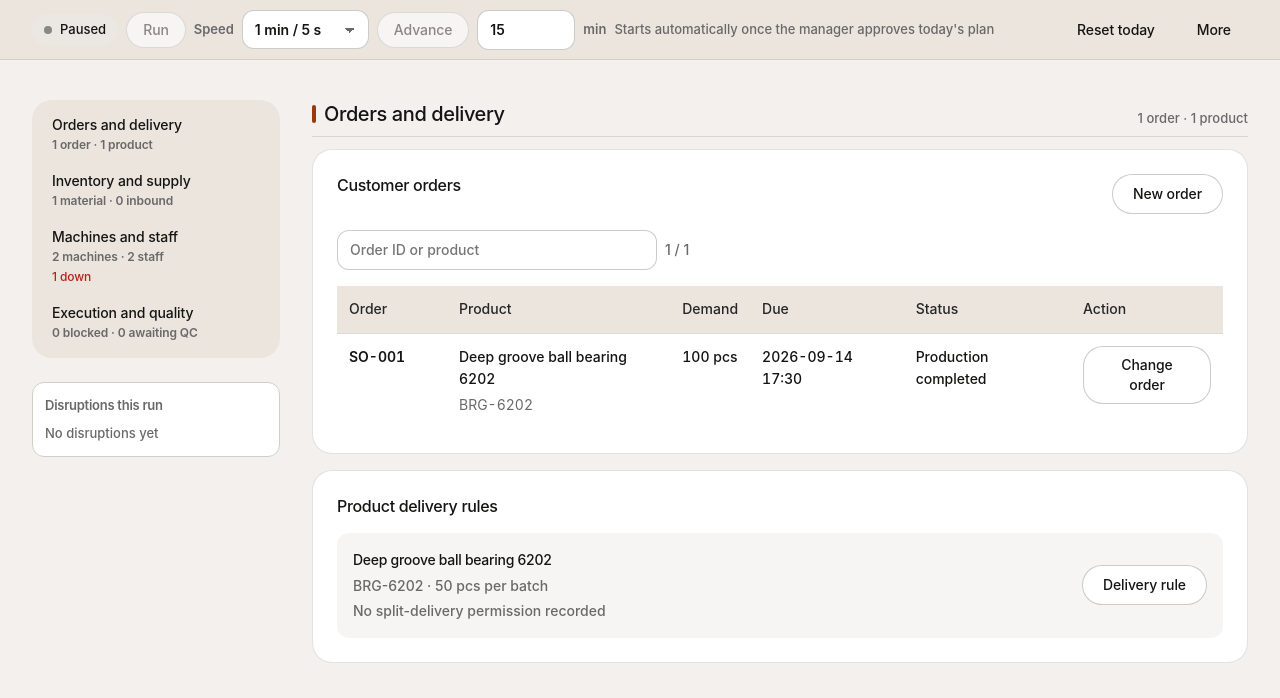
Test case: a COMPLETED order can be cancelled and still says WIP continues and qualified surplus goes to stock
The width and height of the screenshot is (1280, 698).
Click the button with aria-label "Change order SO-001" at (1147, 374), box top-left (1083, 346), bottom-right (1211, 404)
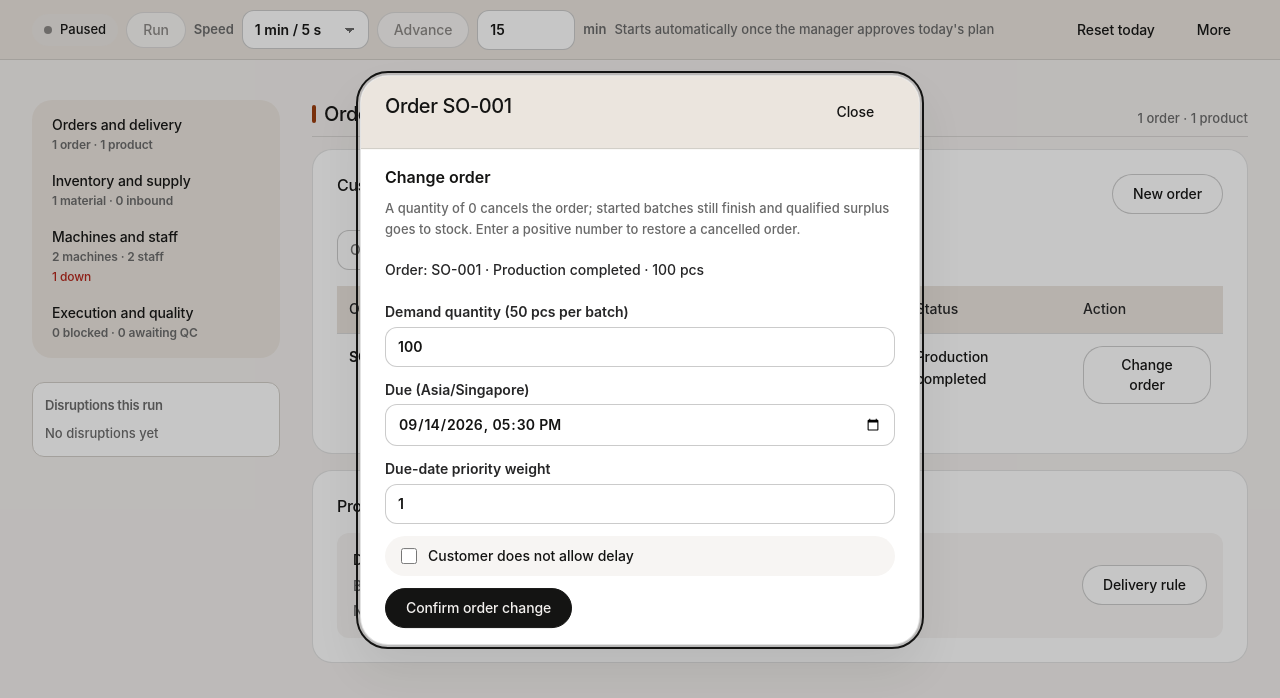
Now the text "started batches still finish" is shown, box top-left (385, 200), bottom-right (889, 237)
Now the text "Order: SO-001 · Production completed · 100 pcs" is shown, box top-left (385, 262), bottom-right (704, 278)
Replace the text in the number field labelled "Demand quantity (50 pcs per batch)" with "0" at (640, 347), box top-left (385, 327), bottom-right (895, 367)
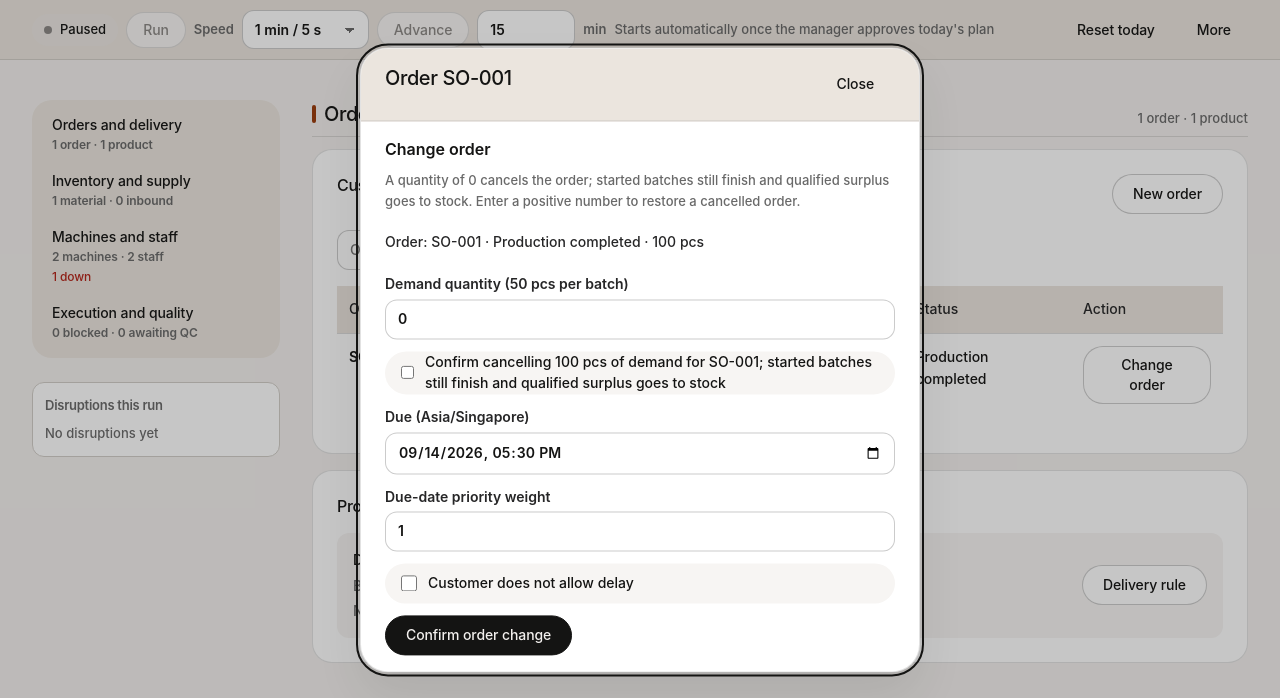
Click the 1st checkbox at (408, 373), box top-left (401, 365), bottom-right (414, 381)
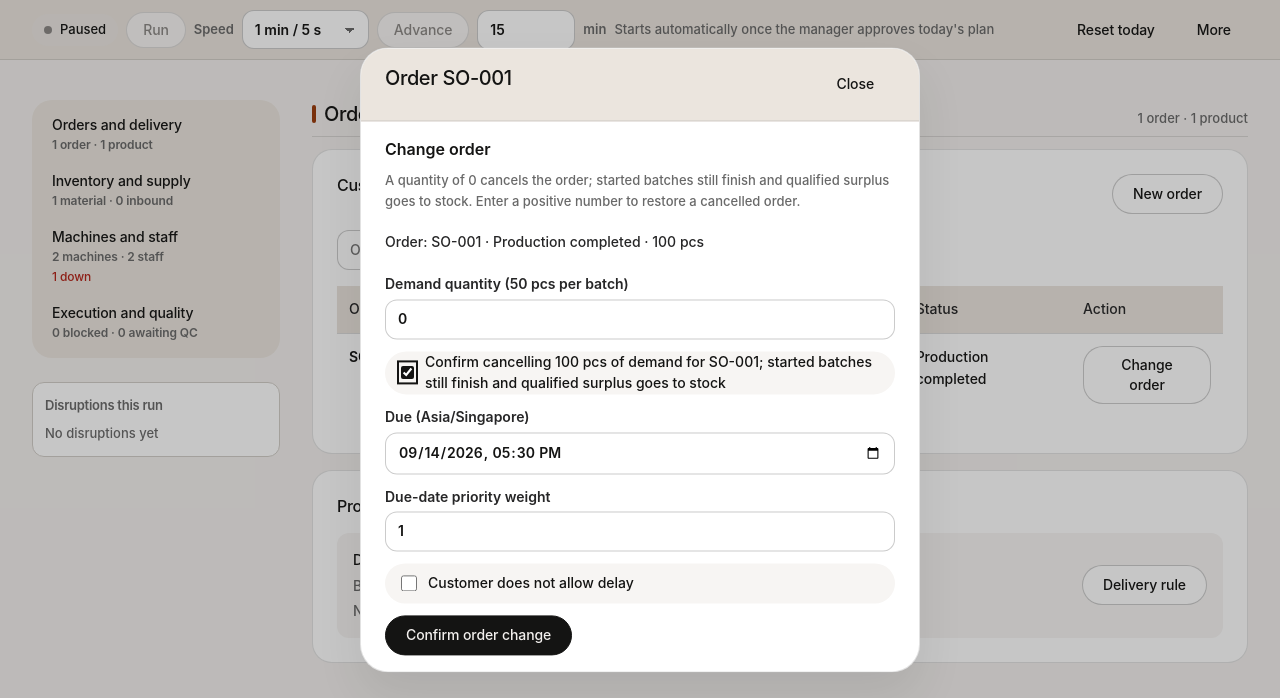
Click the button "Confirm order change" at (479, 636), box top-left (385, 616), bottom-right (572, 656)
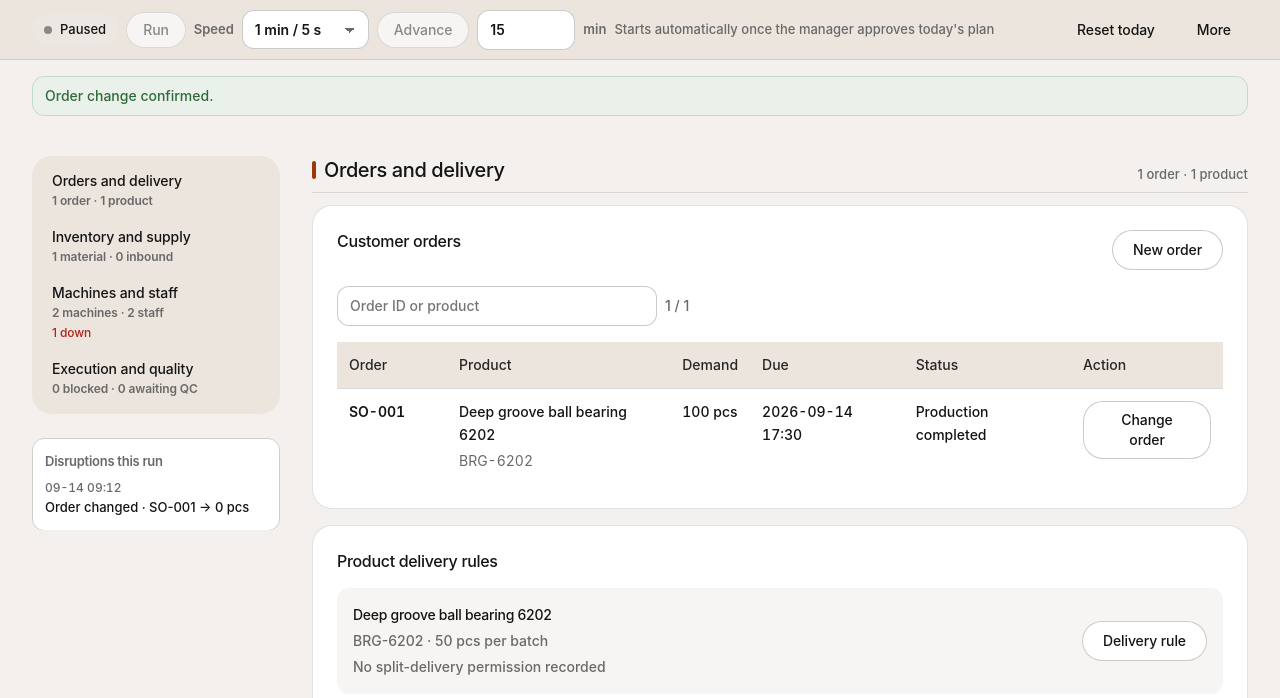
Now the dialog is gone
